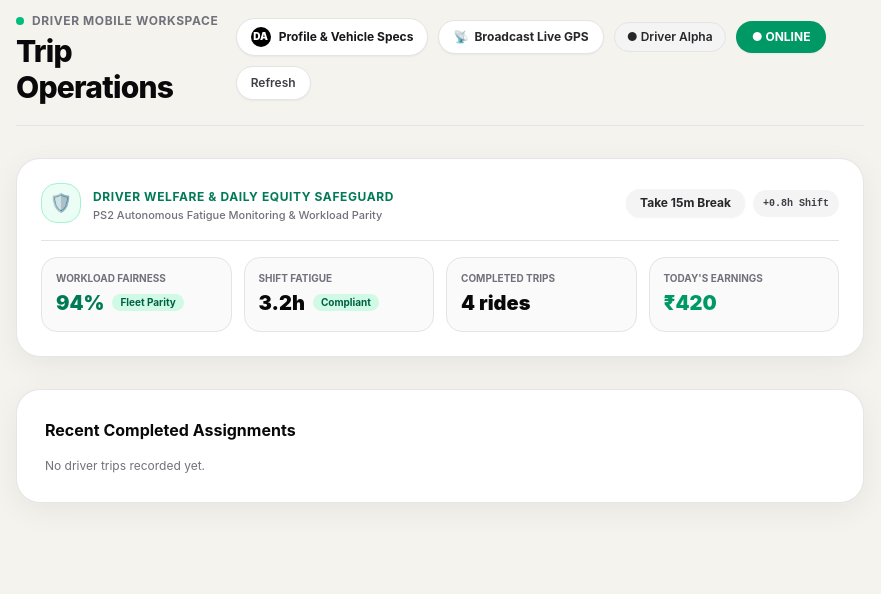
DriverWorkspace DOM Component Testing › renders driver welfare metrics and handles 15m break pause
The width and height of the screenshot is (881, 594).
Expected: the text "Driver Welfare & Daily Equity Safeguard" is shown, [93,189,394,204]
Expected: the text "Workload Fairness" is shown, [56,272,166,284]
Click the button "Take 15m Break".
click(685, 203)  # box [626,189,745,217]
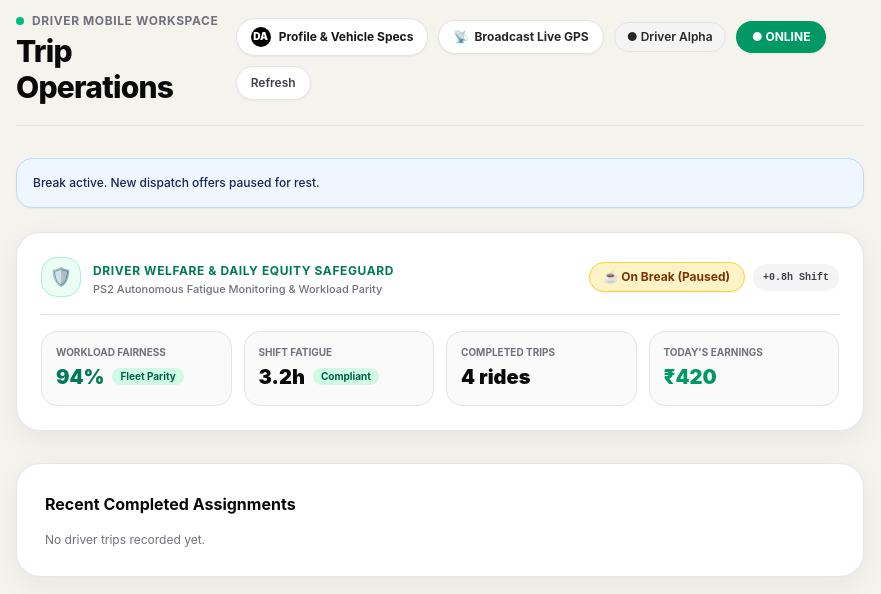
Expected: the button "☕ On Break (Paused)" is shown, [588,262,745,292]
Expected: the text "Break active. New dispatch offers paused for rest." is shown, [16,158,864,208]
